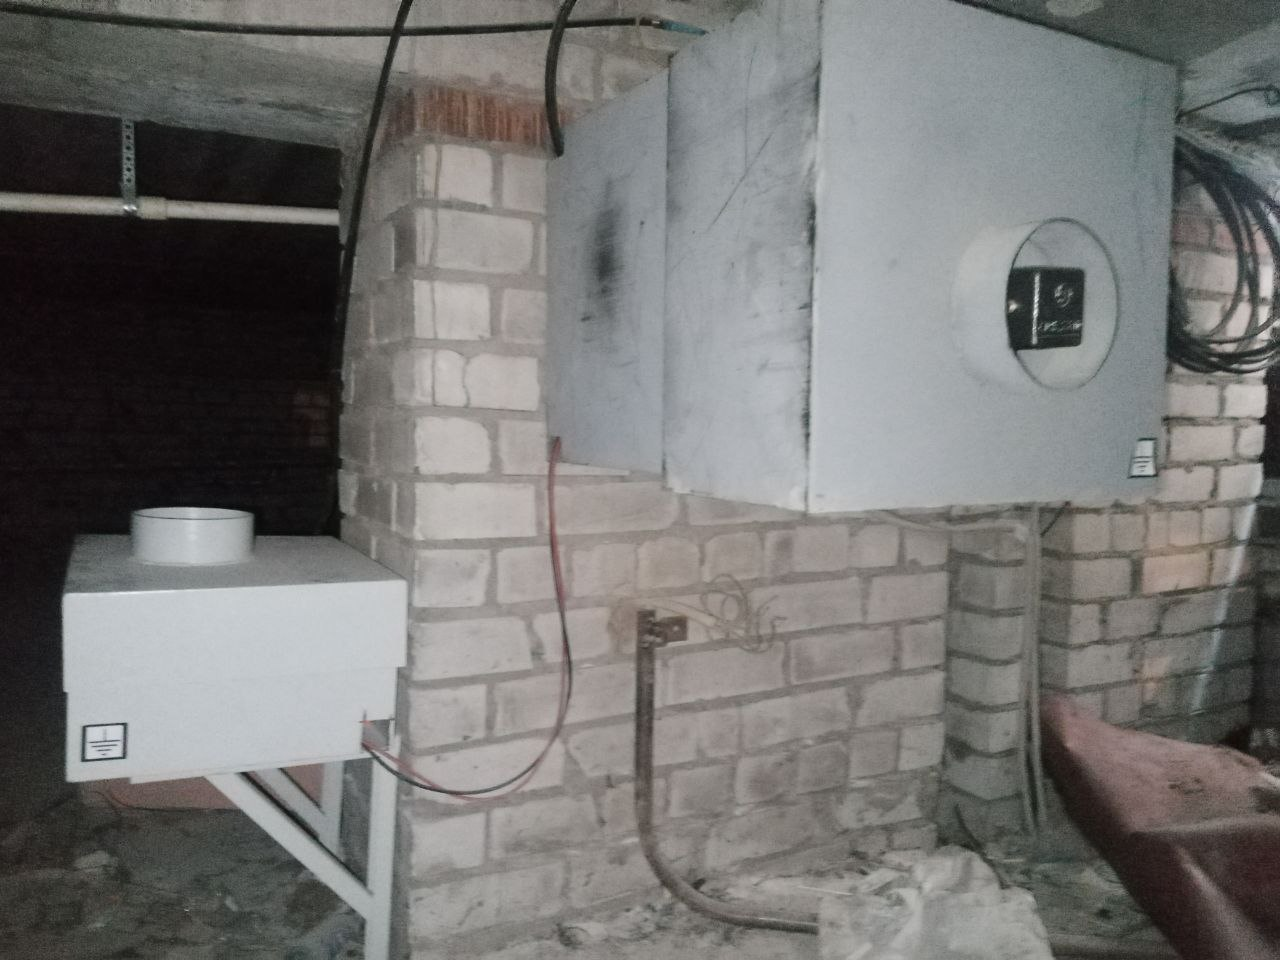shta-9: (523, 5, 1196, 522)
shta-ps: (41, 492, 425, 808)
